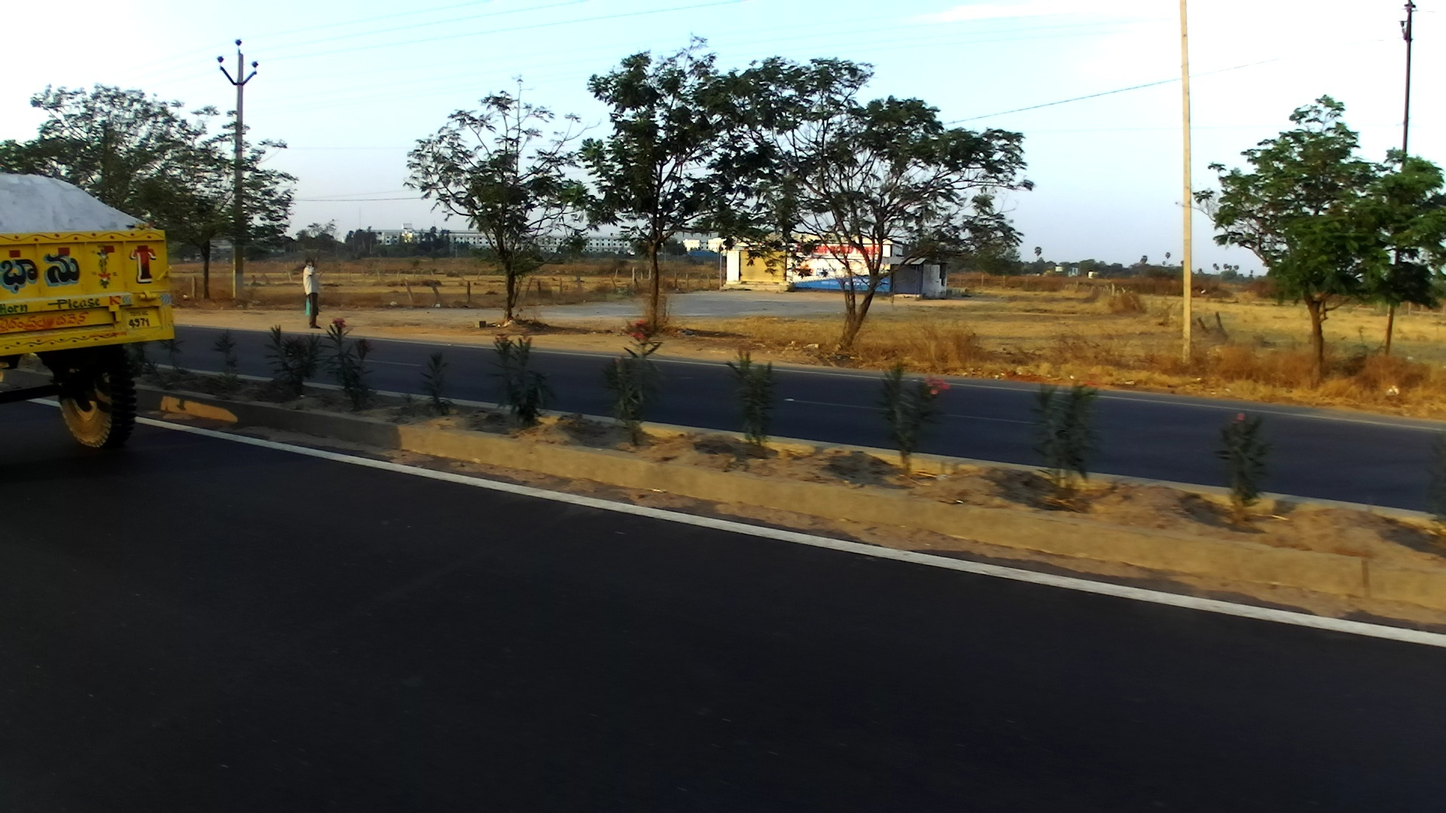person: (297, 257, 322, 328)
truck: (2, 170, 173, 446)
